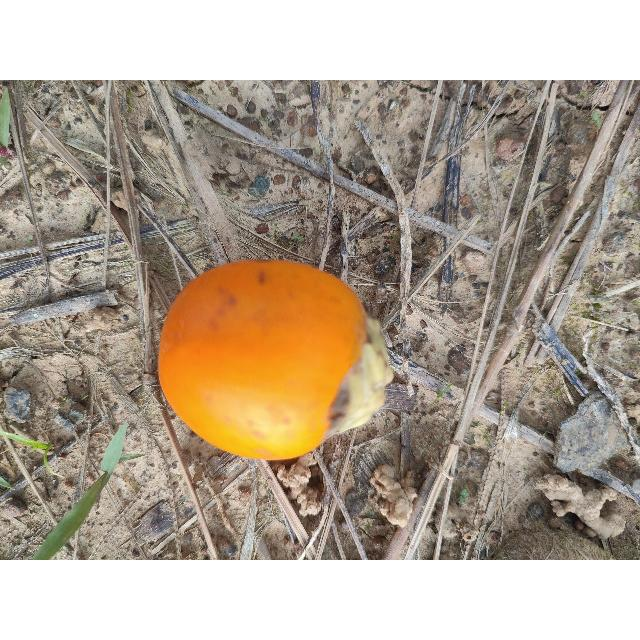good: (156, 260, 394, 462)
